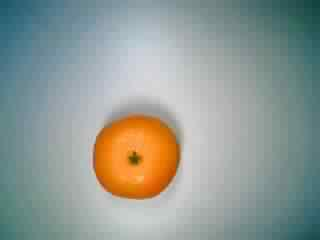orange: (86, 108, 181, 202)
